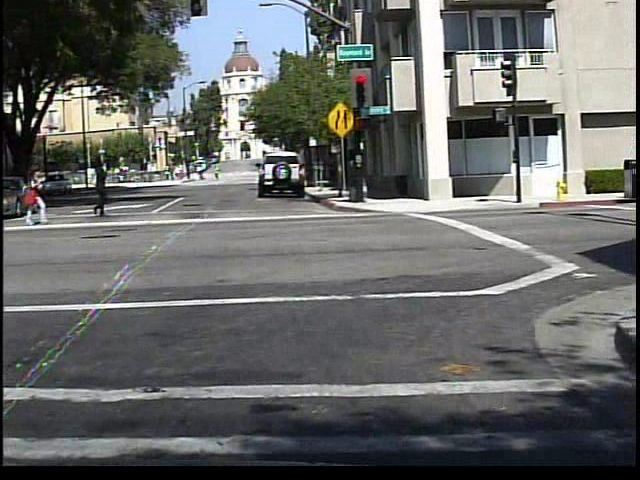person: (79, 157, 117, 222), (20, 164, 47, 229), (207, 163, 218, 183), (193, 166, 203, 184)
